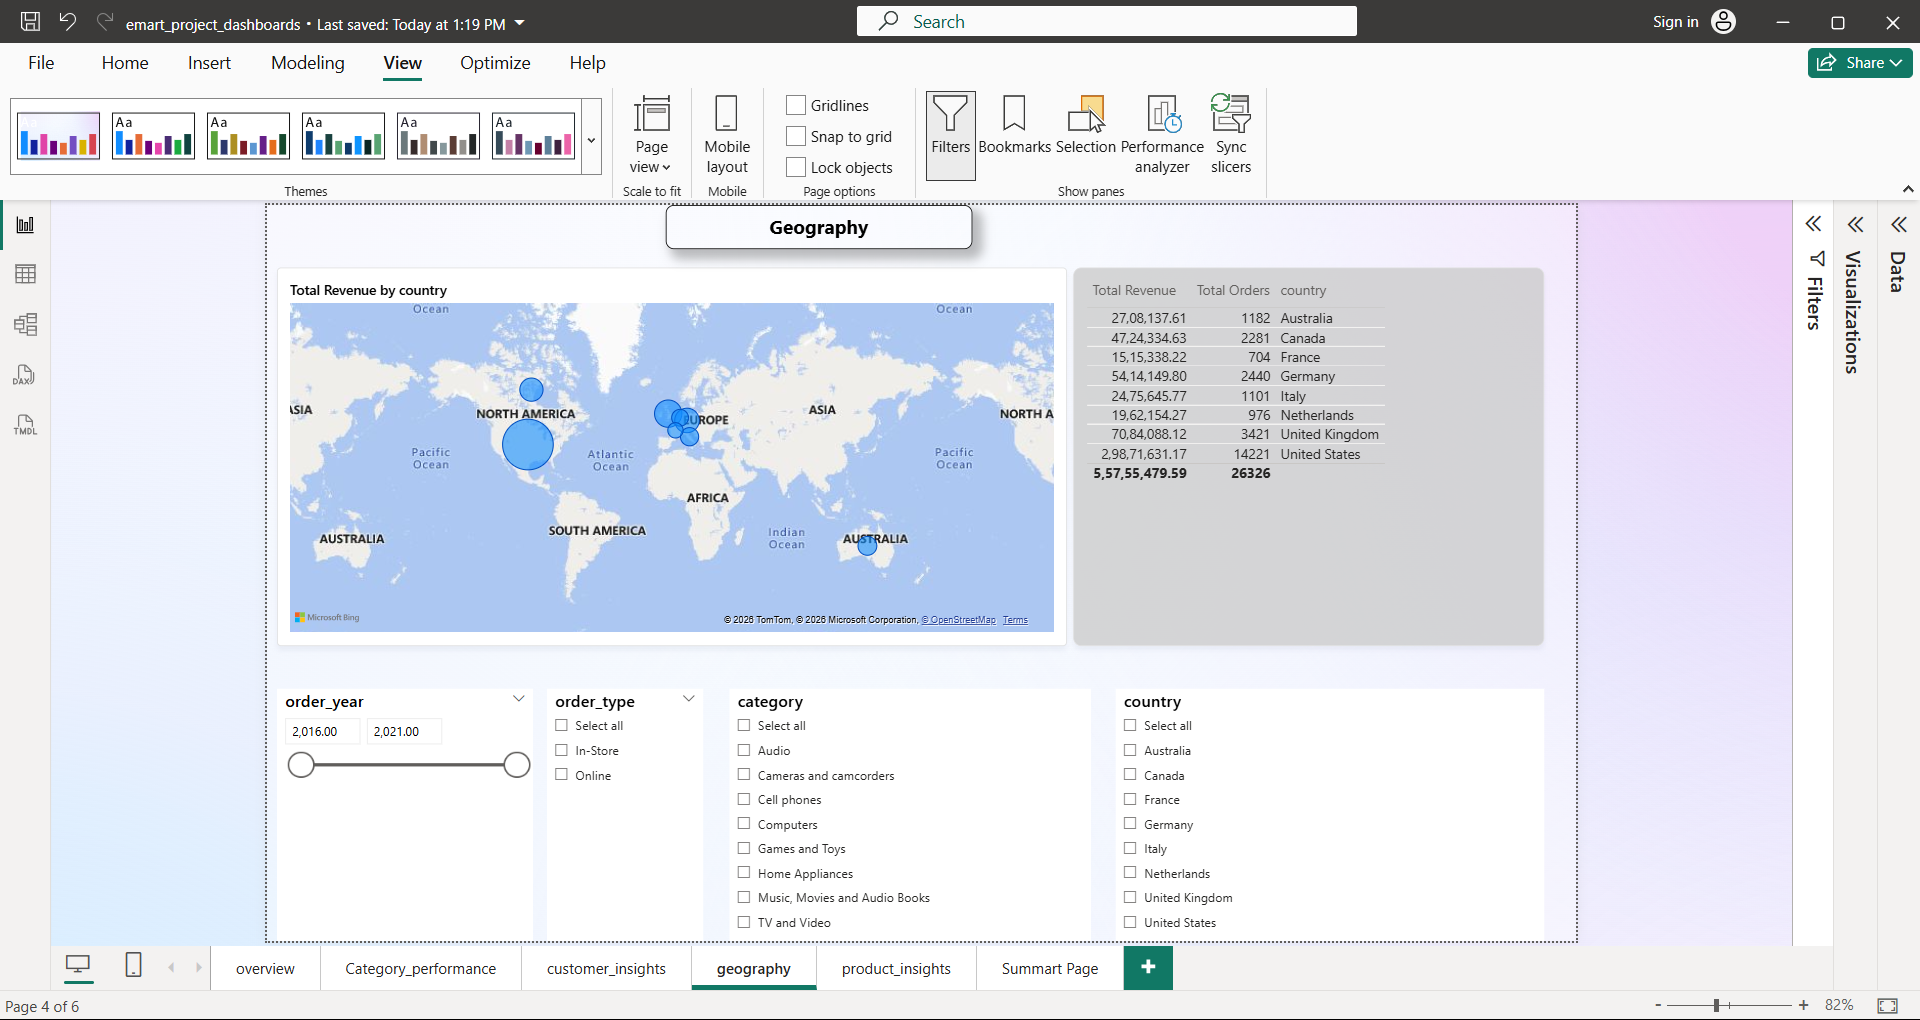

What the dashboard file says about the page in this screenshot:
{"tool":"powerbi","page":{"name":"geography","canvas":[1280,720],"ordinal":3},"visuals":[{"type":"map","fields":{"Category":["customers.country"],"Size":["products.Total Revenue"]},"box":[10,61,773,370],"z":0},{"type":"tableEx","fields":{"Values":["products.Total Revenue","products.Total Orders","customers.country"]},"box":[788.7,61.1,461,342.4],"z":1000},{"type":"slicer","fields":{"Values":["sales.order_year"]},"box":[9.8,473.2,250.7,247],"z":2000},{"type":"slicer","fields":{"Values":["sales.order_type"]},"box":[273.9,473.2,152.9,247],"z":3000},{"type":"slicer","fields":{"Values":["products.category"]},"box":[452.4,473.2,353.4,247],"z":4000},{"type":"slicer","fields":{"Values":["customers.country"]},"box":[830.3,473.2,419.4,247],"z":5000},{"type":"textbox","box":[390,0,300,43],"z":6000}]}

Visuals, with their boxes on the page's 1280x720 design canvas (x1, y1, x2, y2). These are canvas units, not pixel positions in the 1920x1020 screenshot, which may show the page scaled, cropped or inside an application window:
map - customers.country x products.Total Revenue: detection(10, 61, 783, 431)
tableEx - products.Total Revenue x products.Total Orders: detection(789, 61, 1250, 404)
slicer - sales.order_year: detection(10, 473, 260, 720)
slicer - sales.order_type: detection(274, 473, 427, 720)
slicer - products.category: detection(452, 473, 806, 720)
slicer - customers.country: detection(830, 473, 1250, 720)
textbox: detection(390, 0, 690, 43)
